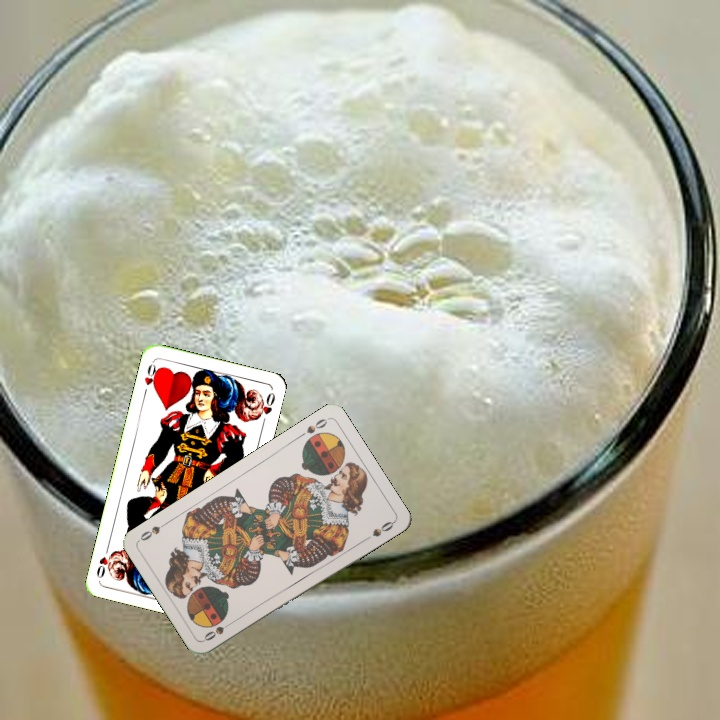HO: (140, 358, 162, 398)
SO: (200, 617, 237, 644), (294, 414, 330, 441)
